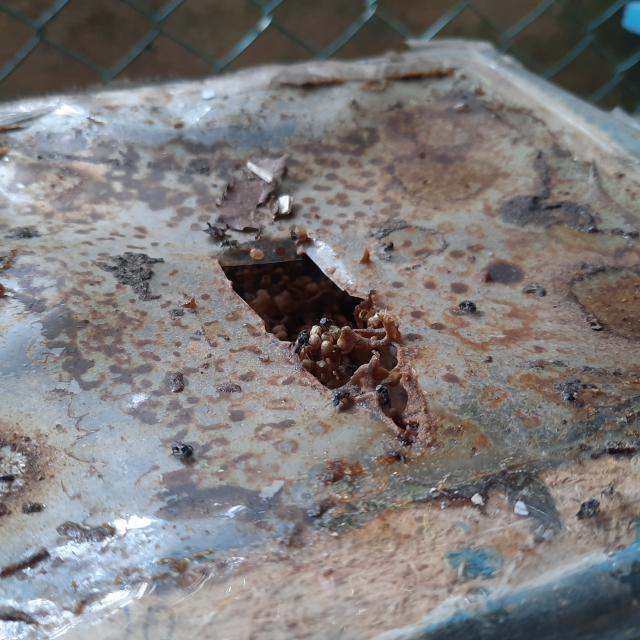honeybee: (326, 383, 354, 409), (161, 442, 199, 461), (376, 382, 399, 411), (280, 332, 306, 356), (215, 233, 240, 252), (454, 297, 479, 314), (316, 316, 335, 332)
